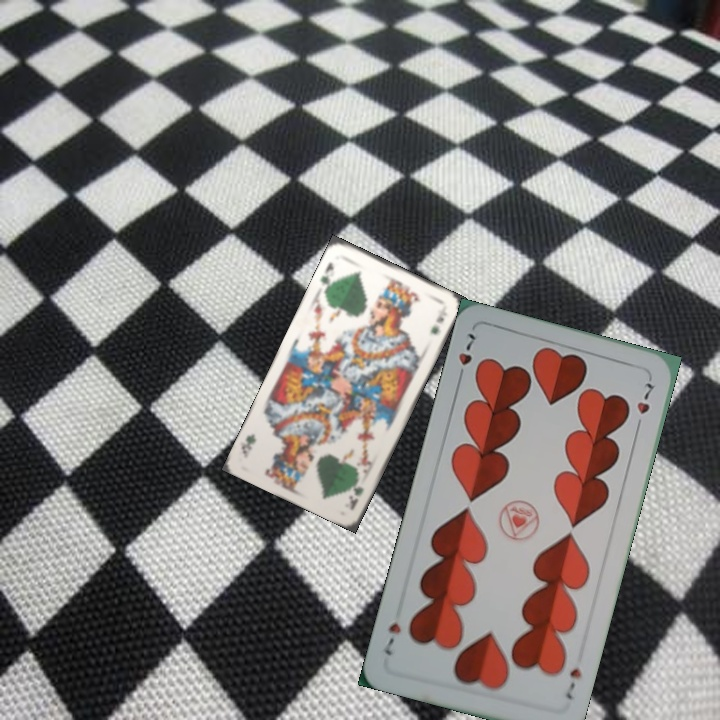GK: (345, 473, 366, 513), (316, 259, 337, 293)
H7: (454, 329, 479, 385), (562, 664, 584, 702)
